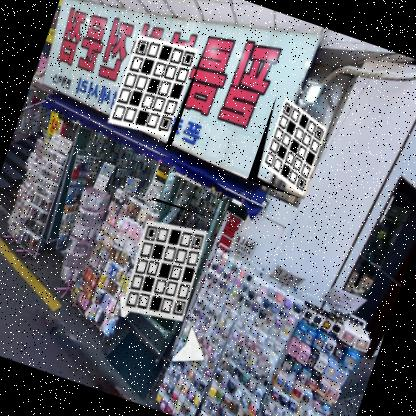qncode: (112, 197, 218, 337), (104, 22, 206, 152), (245, 91, 334, 201)
